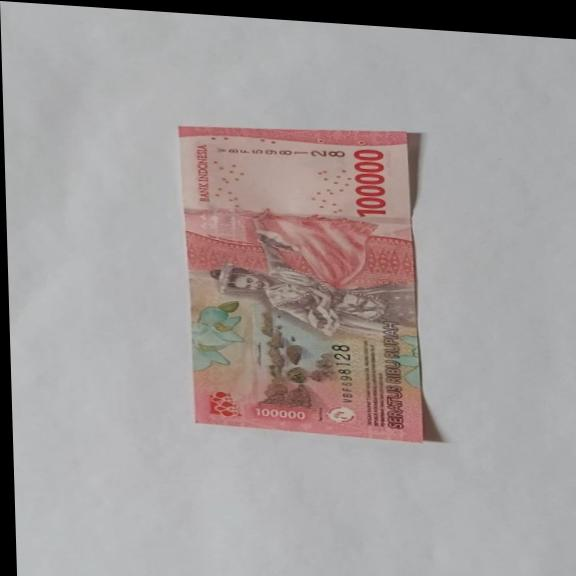Kertas: (178, 117, 426, 443), (350, 147, 388, 219)
